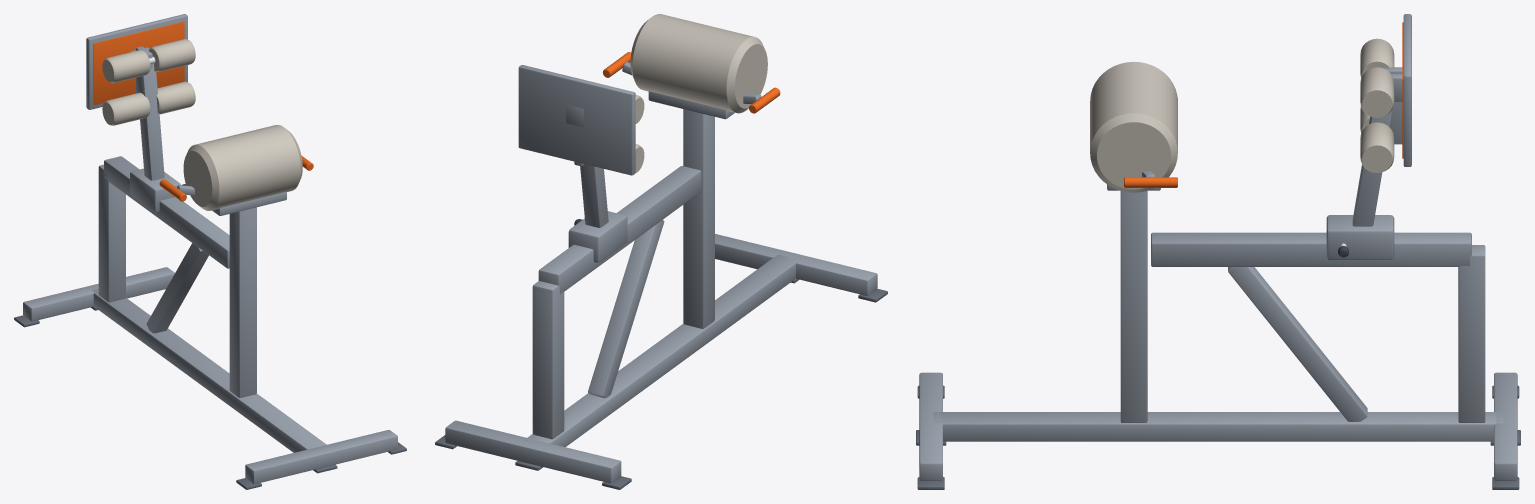
The model's file is ghd.glb.
3 views of the same model, side by side, from view 1: azimuth 30°, elevation 25°; view 2: azimuth 150°, elevation 25°; view 3: azimuth 270°, elevation 25° (orthographic). The views are drawn at different scales.
Visible parts, largest first — view 1: frame.frame, frame.pad, foot_carriage.frame, foot_carriage.pad, foot_carriage.tread, frame.rubber; view 2: frame.frame, foot_carriage.frame, frame.pad, frame.rubber, frame.grip; view 3: frame.frame, frame.pad, foot_carriage.frame, foot_carriage.pad, frame.rubber.
Part boxes in pixels (x1,y1,x2,y2): frame.frame: [23, 156, 397, 484]; frame.pad: [183, 125, 302, 210]; foot_carriage.frame: [86, 14, 187, 212]; foot_carriage.pad: [102, 39, 195, 125]; foot_carriage.tread: [93, 21, 184, 104]; frame.rubber: [14, 289, 406, 489]; frame.frame: [445, 62, 877, 483]; foot_carriage.frame: [518, 65, 635, 262]; frame.pad: [630, 14, 767, 113]; frame.rubber: [435, 279, 887, 489]; frame.grip: [603, 52, 780, 113]; frame.frame: [919, 171, 1517, 480]; frame.pad: [1090, 61, 1177, 192]; foot_carriage.frame: [1326, 14, 1411, 259]; foot_carriage.pad: [1360, 38, 1394, 172]; frame.rubber: [916, 385, 1520, 489].
Size of the model in its own units: 0.71 by 1.29 by 1.79.
